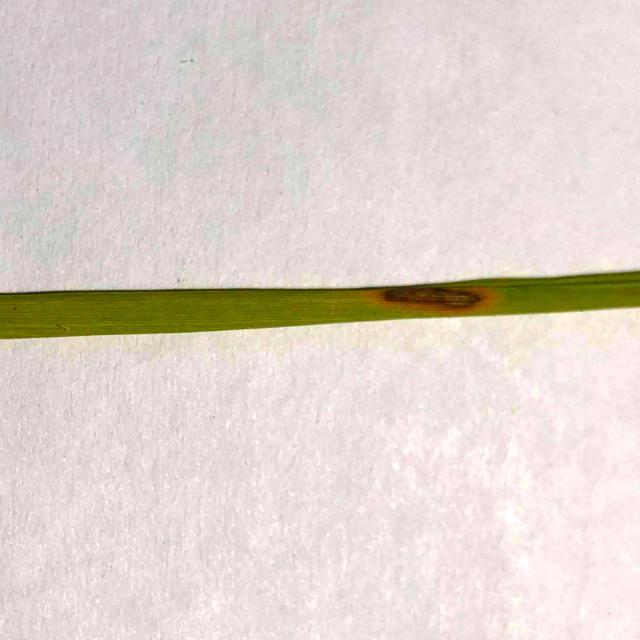Blast: (380, 287, 492, 310)
